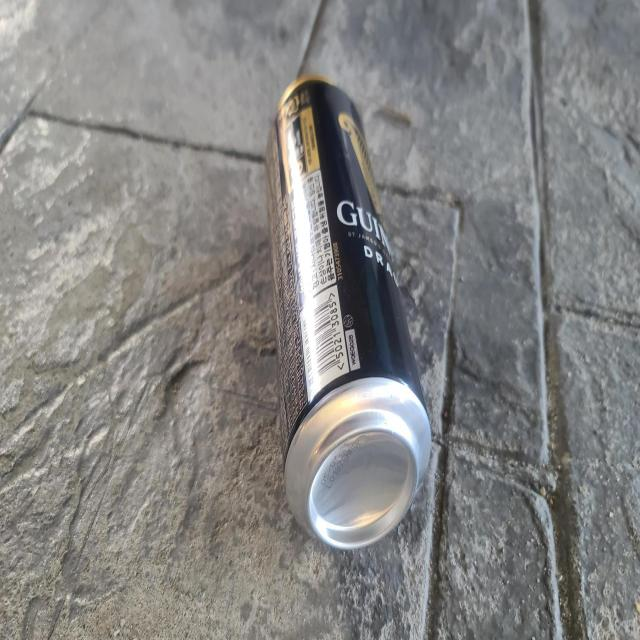can: (267, 75, 431, 548)
